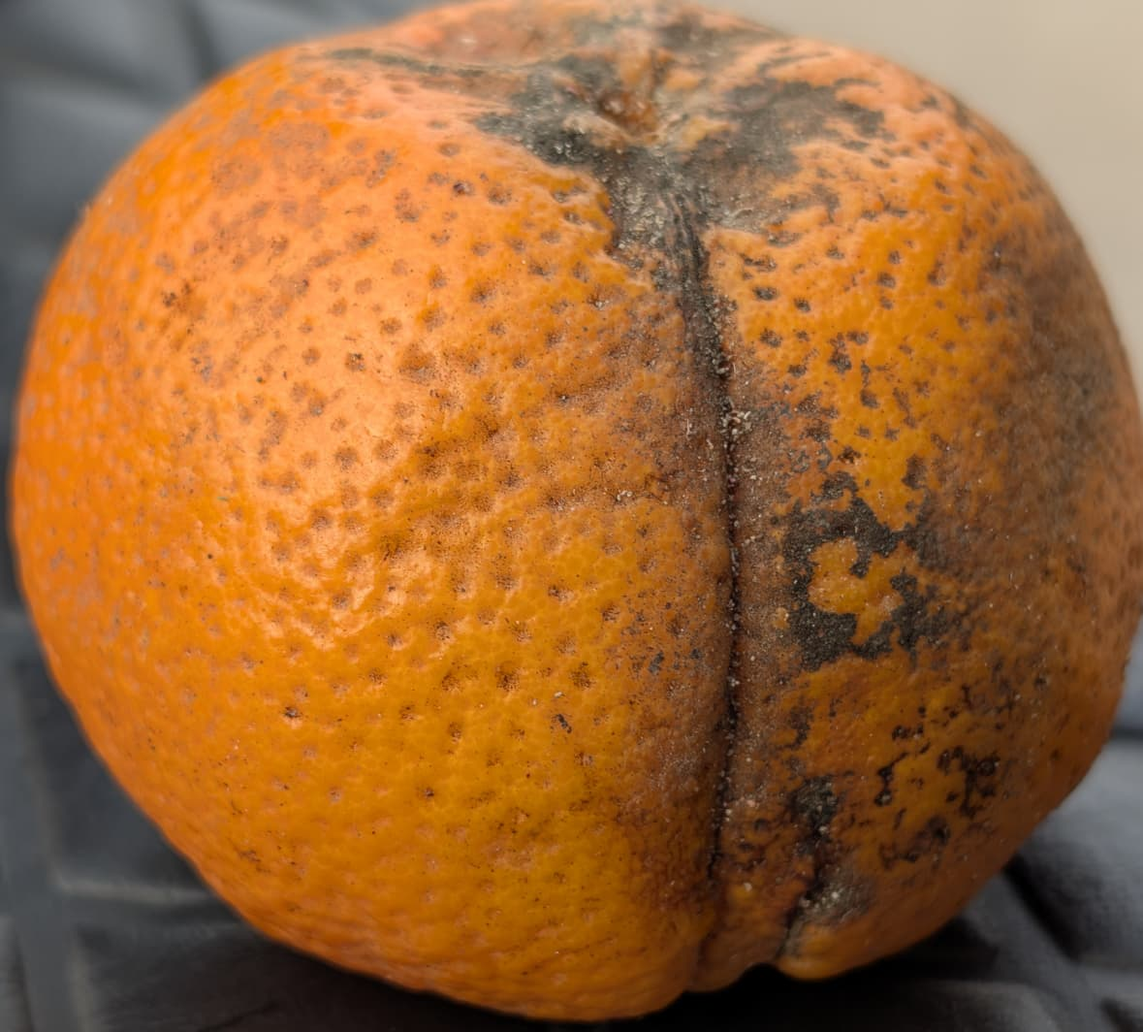orange: (86, 55, 932, 945)
